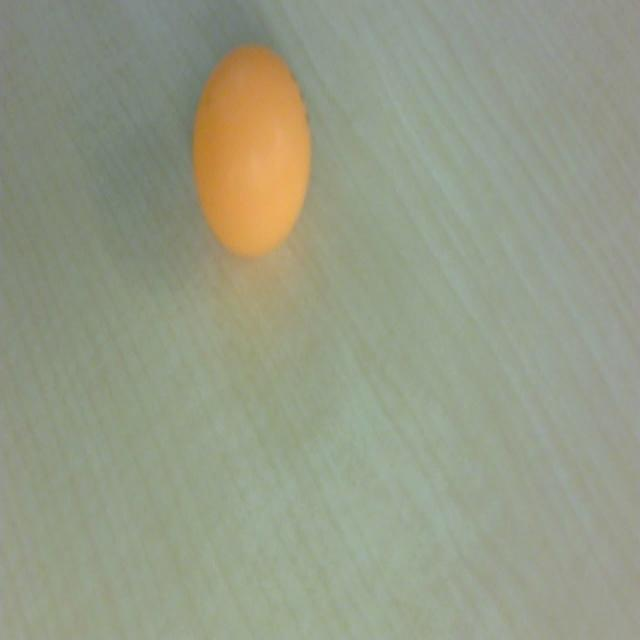ball: (192, 41, 314, 261)
